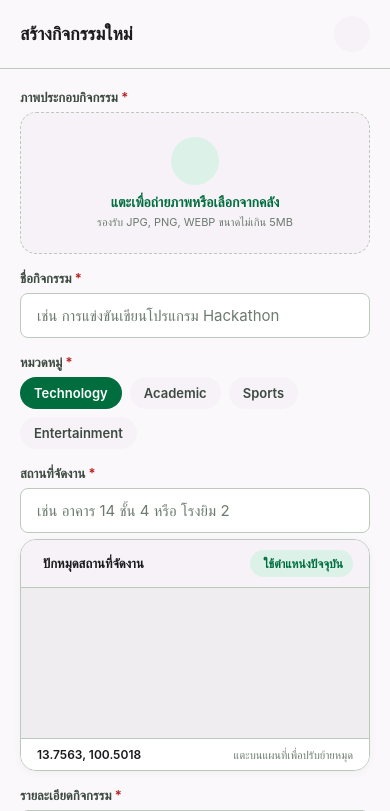
Scenario: Integration Test: CreateEventModal › selects image from library, shows preview, and allows removing image
# Open action sheet
Click the button with test id "open-image-picker-btn": click(195, 183) x1=20 y1=112 x2=370 y2=254
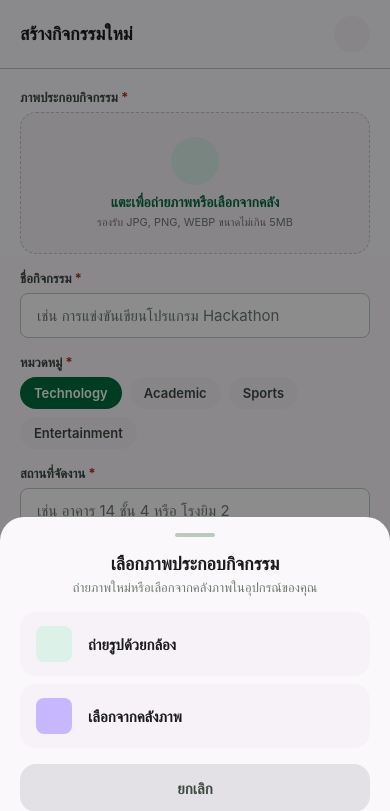
Expected: the text "เลือกภาพประกอบกิจกรรม" is shown, x1=111 y1=553 x2=279 y2=574
# Select choose from library
Click the button with test id "action-choose-library": click(54, 716) x1=20 y1=684 x2=370 y2=748
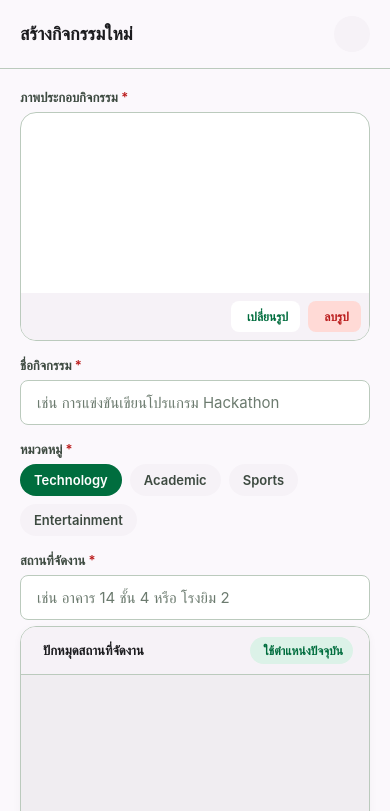
Expected: the element with test id "image-preview-container" is shown, x1=20 y1=112 x2=370 y2=341
Expected: the button with test id "replace-image-btn" is shown, x1=231 y1=301 x2=300 y2=332
Expected: the button with test id "remove-image-btn" is shown
# Remove image
Click the button with test id "remove-image-btn": click(335, 316) x1=308 y1=301 x2=361 y2=332
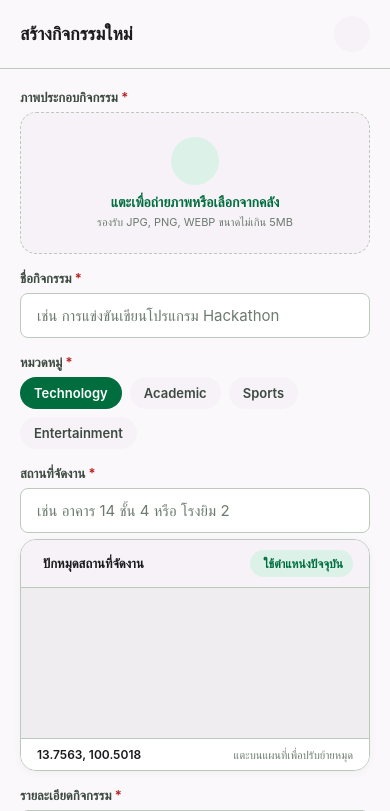
Expected: the element with test id "image-preview-container" is gone
Expected: the button with test id "open-image-picker-btn" is shown, x1=20 y1=112 x2=370 y2=254
